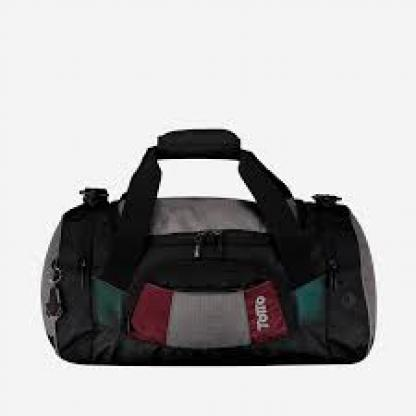morral: (24, 109, 396, 381)
